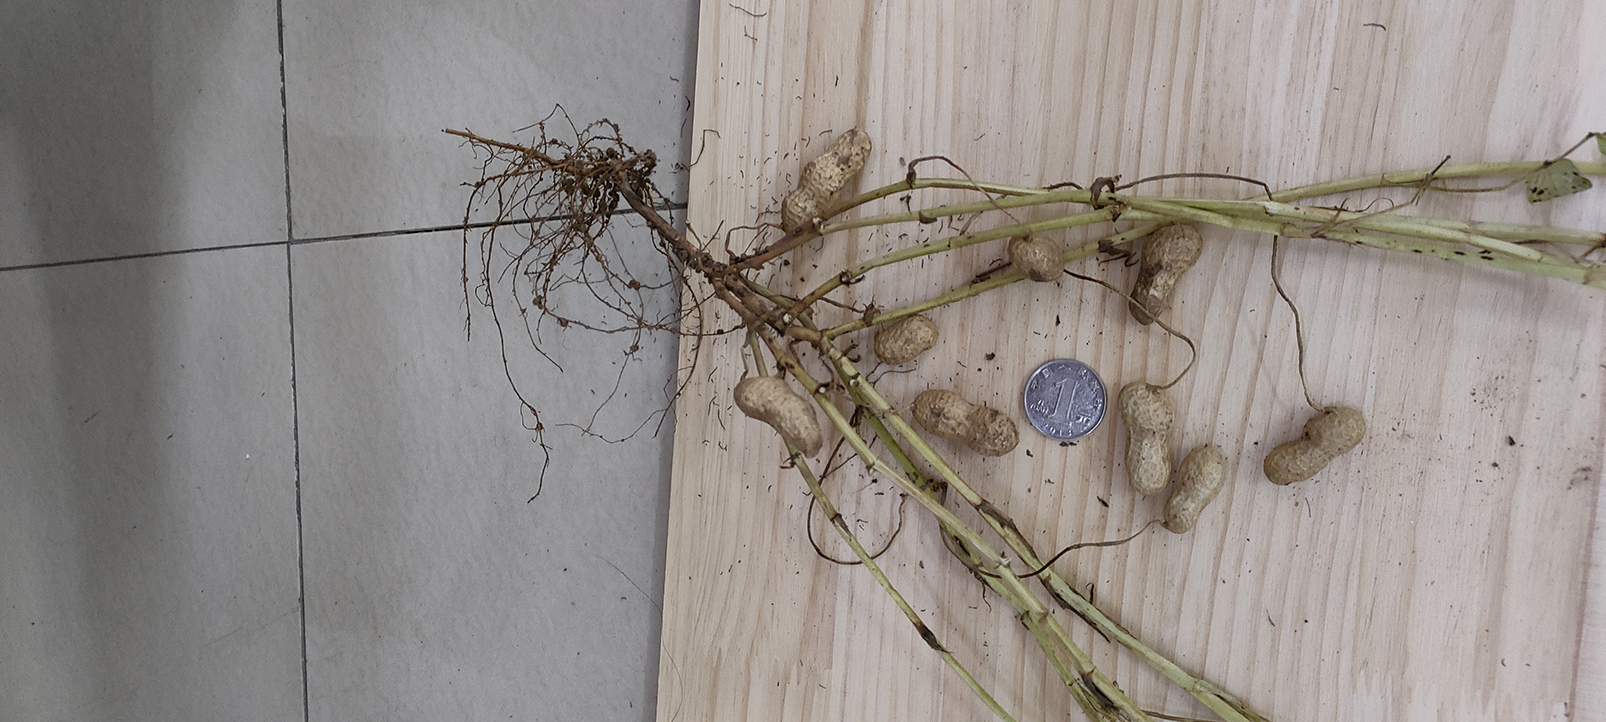h: (780, 127, 872, 235), (1263, 406, 1366, 486), (734, 376, 822, 458), (914, 389, 1019, 457), (1118, 383, 1177, 492), (1163, 447, 1226, 535), (874, 314, 939, 367), (1008, 235, 1065, 282)
l: (1127, 222, 1204, 325)
